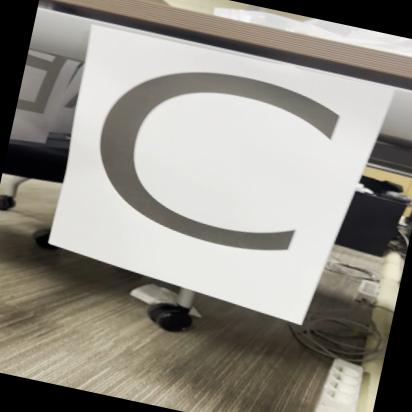seat: (56, 24, 378, 324)
